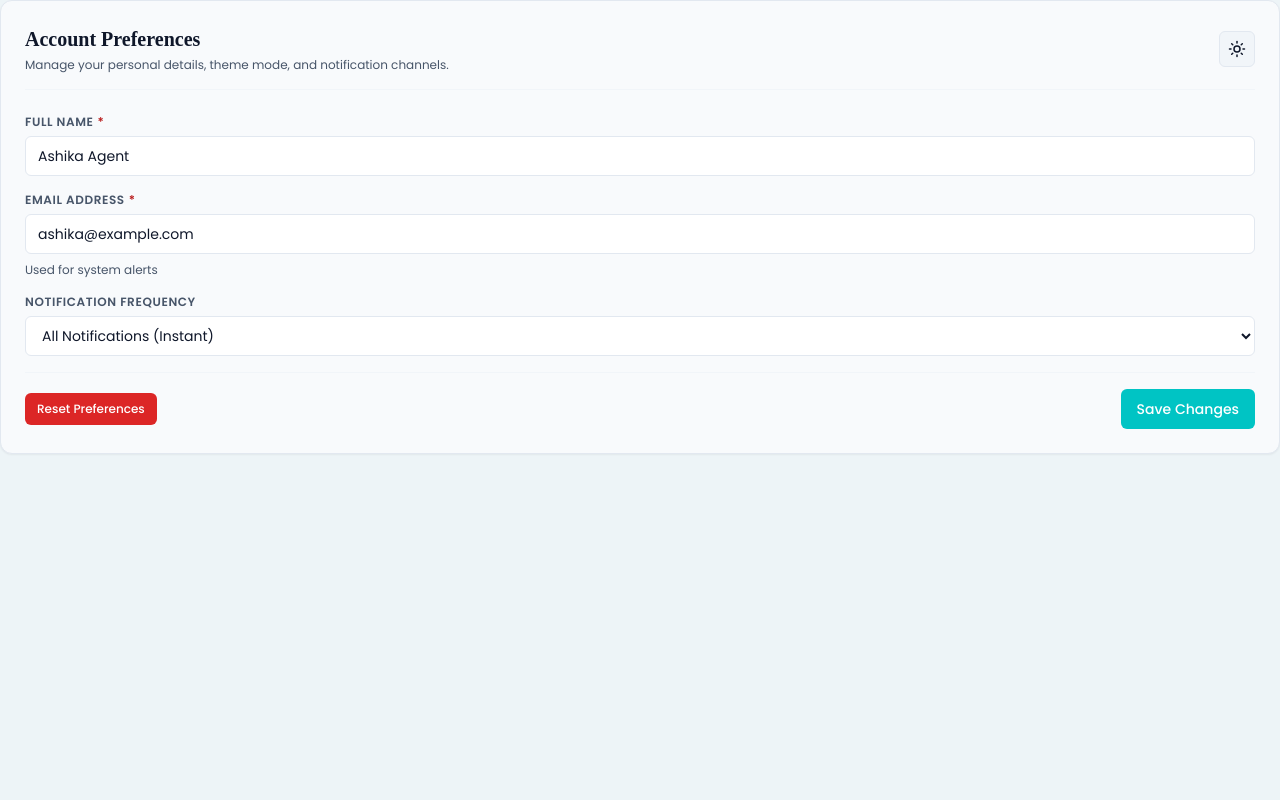
Test: SettingsPanel Component › opens confirmation dialog on reset click and confirms reset
Step 1. Click the button "Reset Preferences" → (91, 409), box [25,393,157,425]
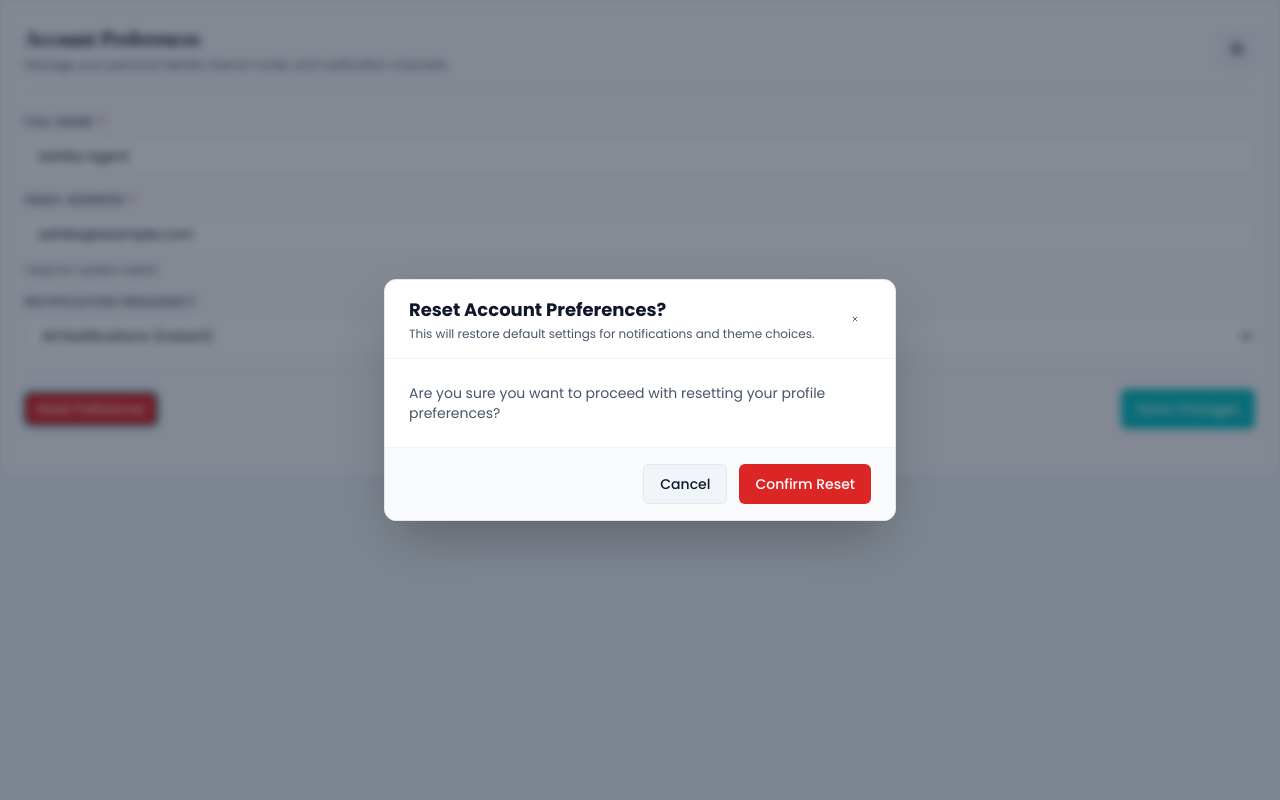
Result: the dialog is shown
Result: the heading "Reset Account Preferences?" is shown at [409,297,666,322]
Step 2. Click the button "Confirm Reset" → (805, 484), box [739,464,871,504]
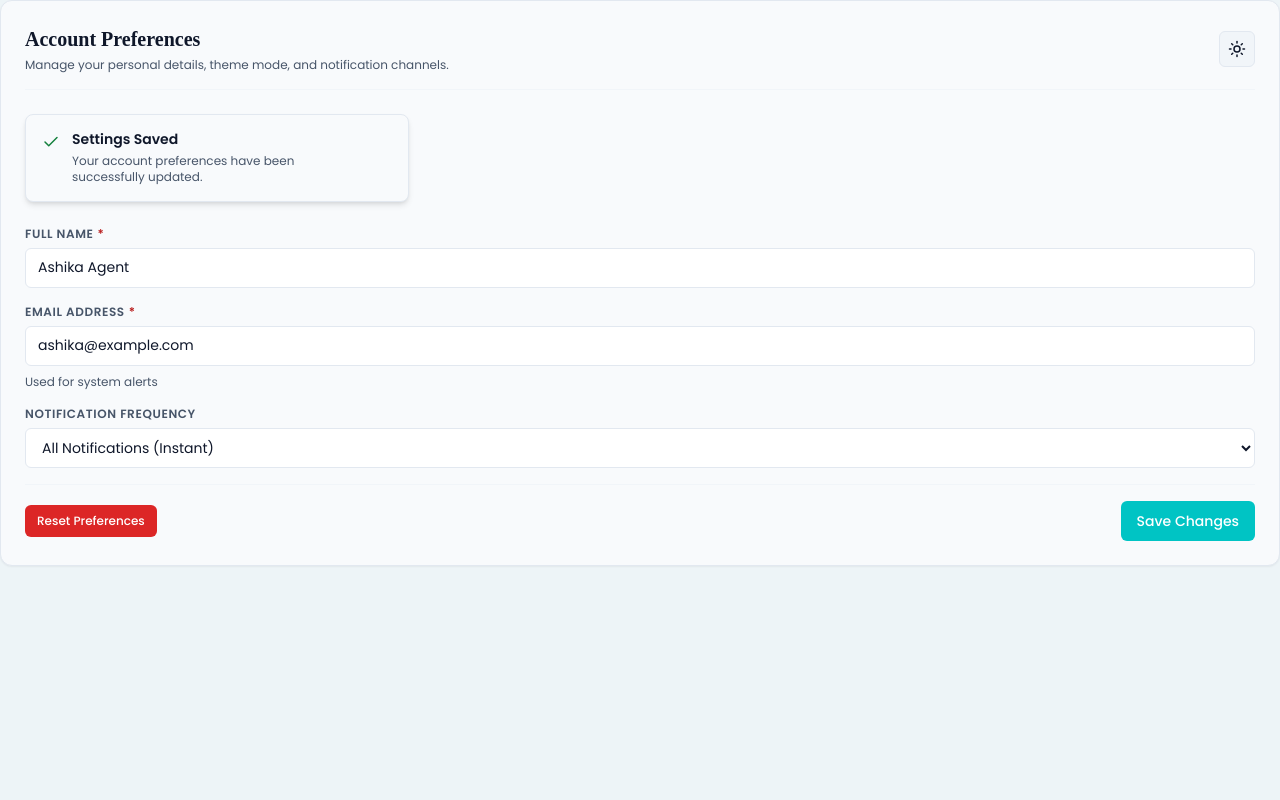
Result: the dialog is gone
